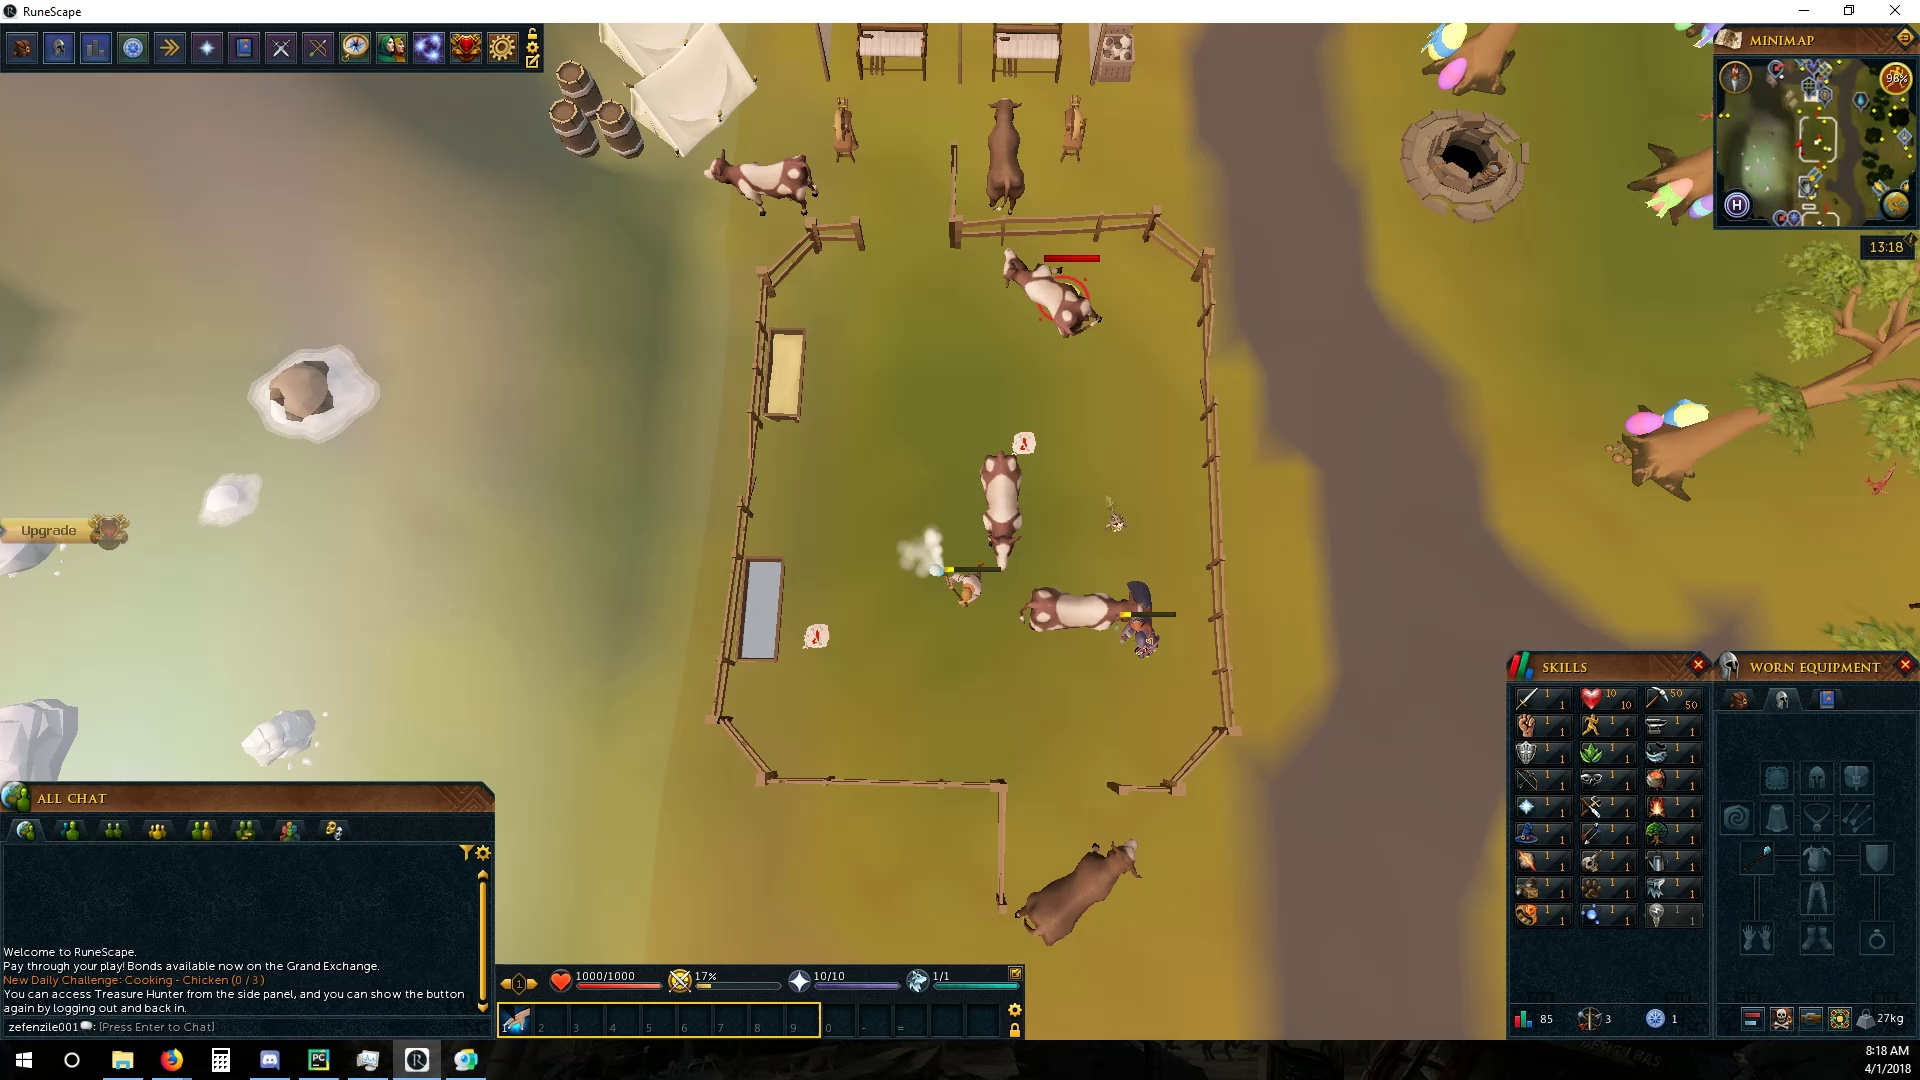cow: (1015, 832, 1142, 947), (996, 244, 1106, 338), (703, 145, 827, 219), (1015, 582, 1139, 640), (977, 448, 1031, 575), (982, 88, 1026, 218)
cow_drop: (798, 618, 833, 653), (1007, 431, 1036, 460)
